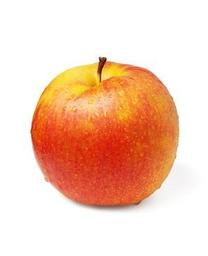apple: (30, 57, 179, 206)
